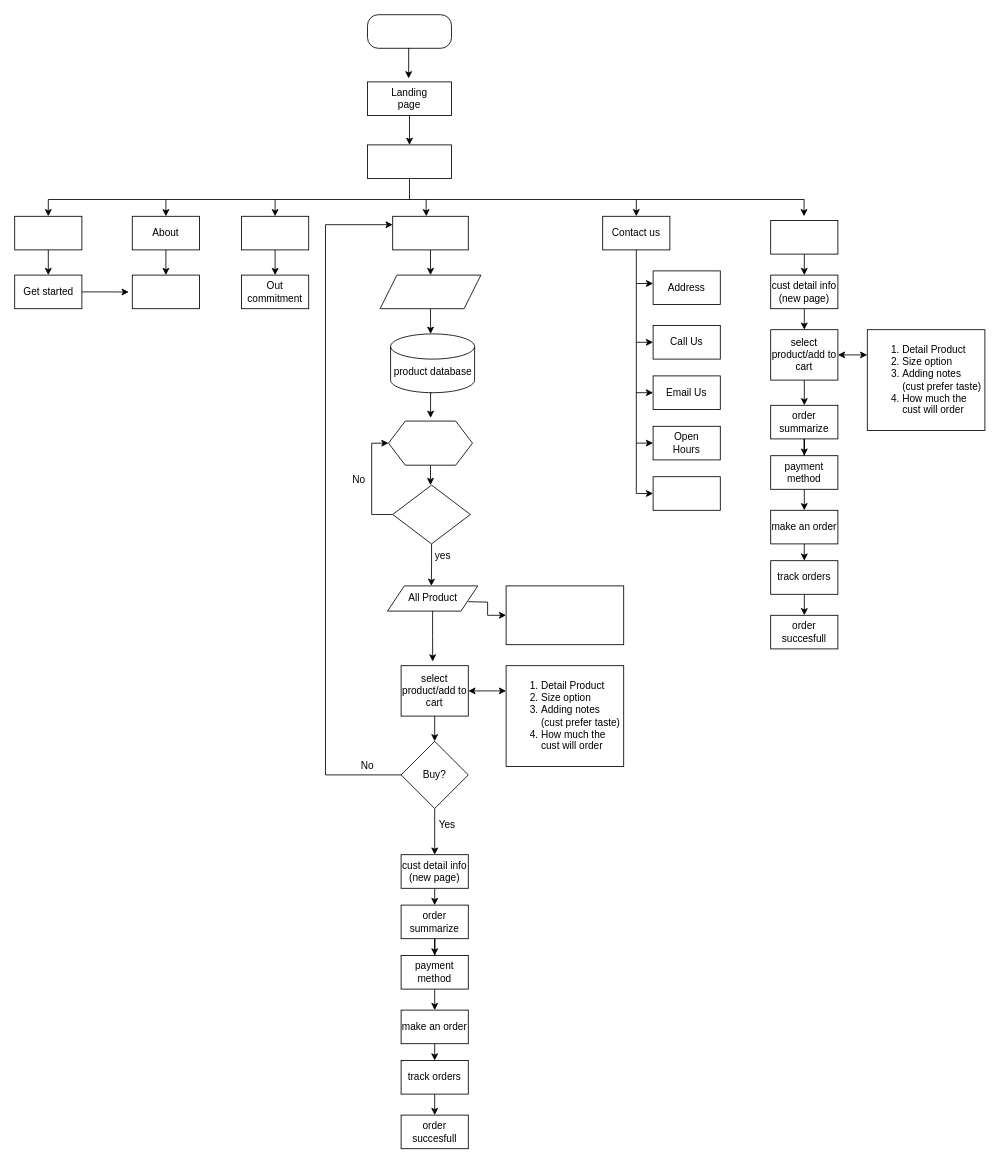
Some shapes in this 1000 by 1163 pixel diagram are drawn without their labels. The centre of each missing label's shape, as x and y in pixels:
Beli Yuk: the point at 804,237
database connection: the point at 430,291
Home: the point at 48,232
loop through product: the point at 430,442
Menu of each type Sort (by type, name, best seller): the point at 564,615
More product ?: the point at 431,514
Mulai: the point at 409,31
Navigation: the point at 409,161
Product: the point at 430,232
Send Message: the point at 686,493
Service: the point at 275,232
Who we are ?: the point at 165,291
